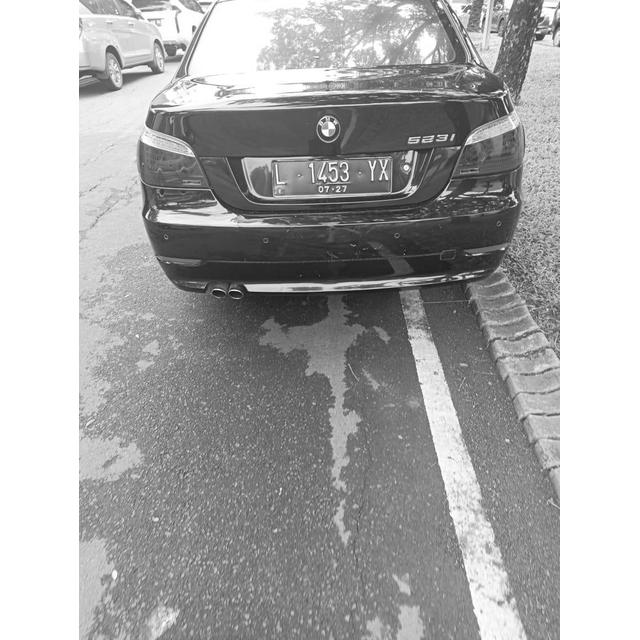license: (273, 157, 389, 195)
